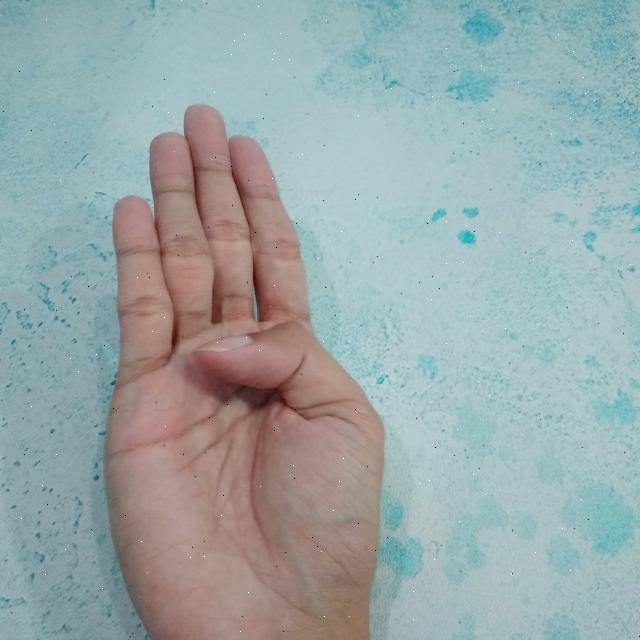B: (100, 100, 386, 640), (103, 102, 386, 640), (105, 101, 386, 640)
